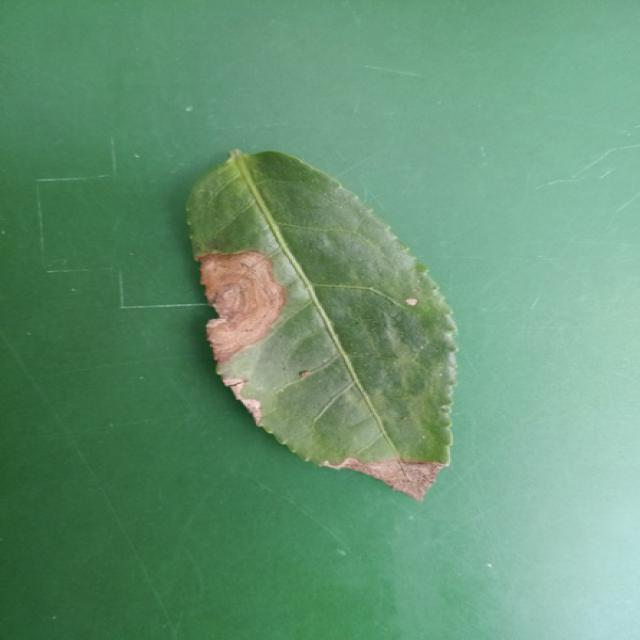Tea cloud leaf blight: (181, 248, 293, 357)
